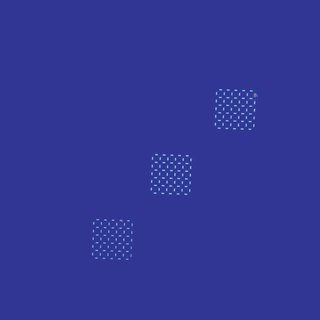overheated: (253, 93, 257, 98), (120, 220, 122, 221)
